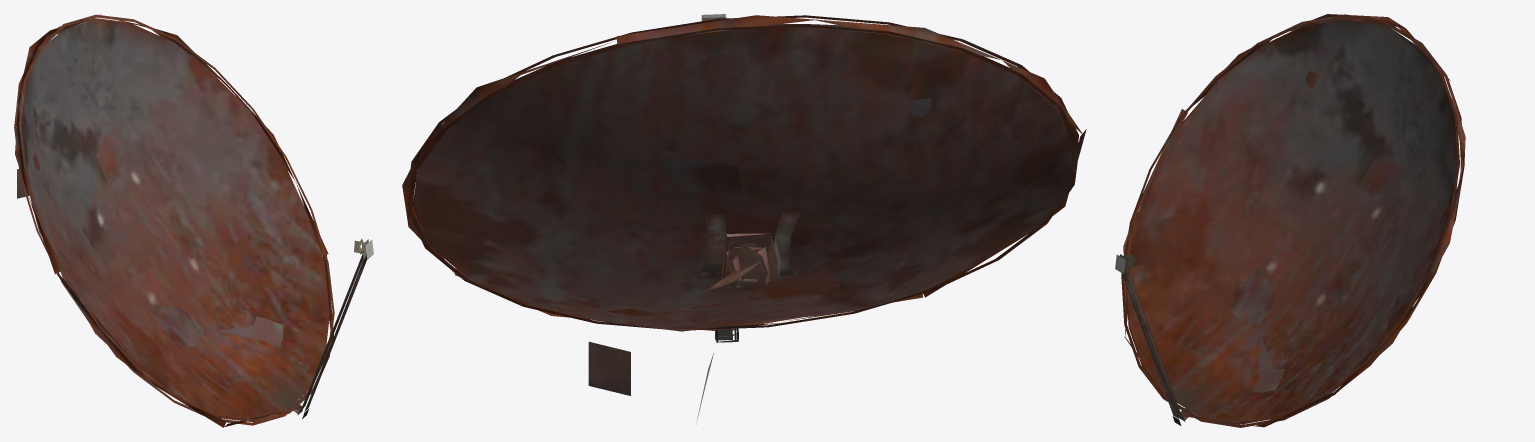
File: satellite_dish_wall_lod1.glb
3 renders of one model, left to right at view 1: azimuth 30°, elevation 25°; view 2: azimuth 150°, elevation 25°; view 3: azimuth 270°, elevation 25°, orthographic. The views are drawn at different scales.
Visible parts, largest first — view 1: satellite_dish_wall_lod1; view 2: satellite_dish_wall_lod1; view 3: satellite_dish_wall_lod1.
Part boxes in pixels (box(x1,y1,x2,y2)): satellite_dish_wall_lod1: box(14, 14, 373, 427); satellite_dish_wall_lod1: box(402, 14, 1086, 424); satellite_dish_wall_lod1: box(1115, 14, 1465, 427).
Bounding box in the file's own units: 0.9803 × 0.9387 × 1.
Materials: 1 (1 with a texture image).
